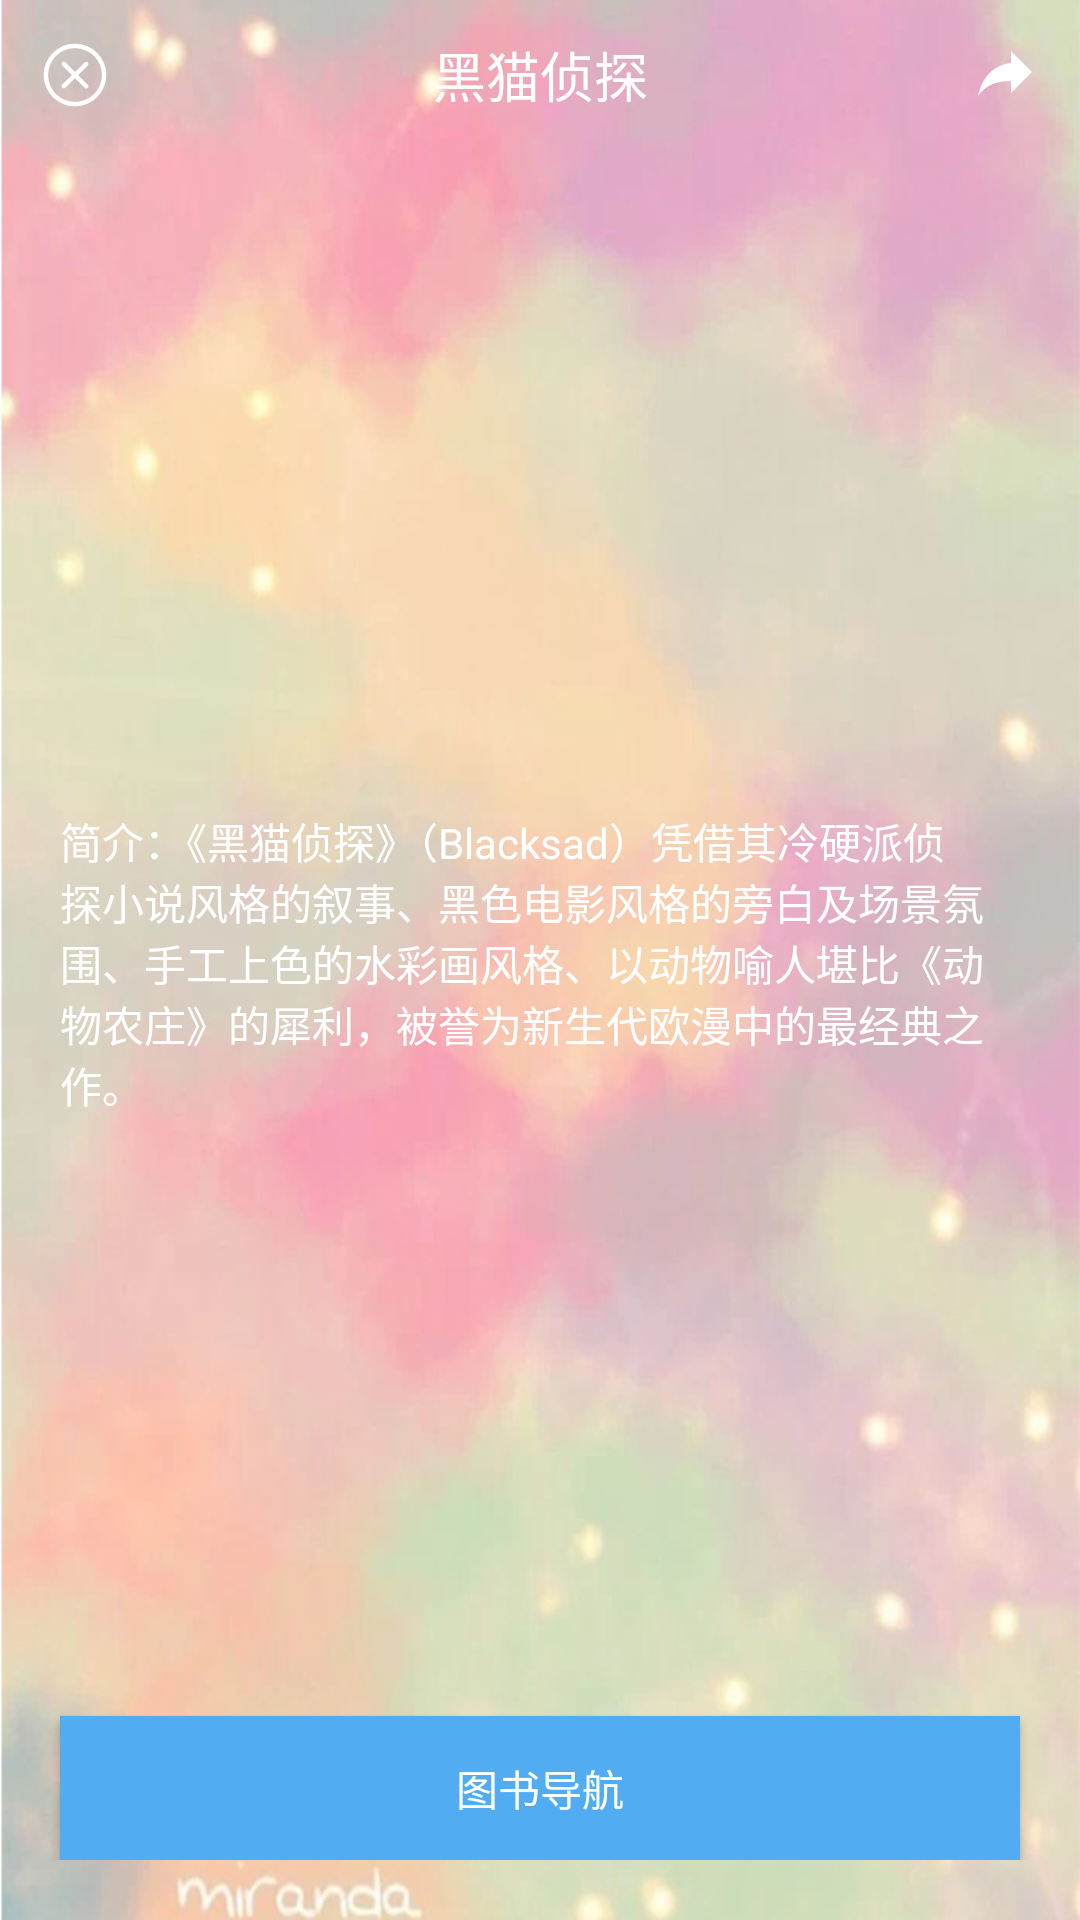

Named icons in this screenshot (1080 x 1920) and their centers, point (x, y):
close: point (67, 61)
